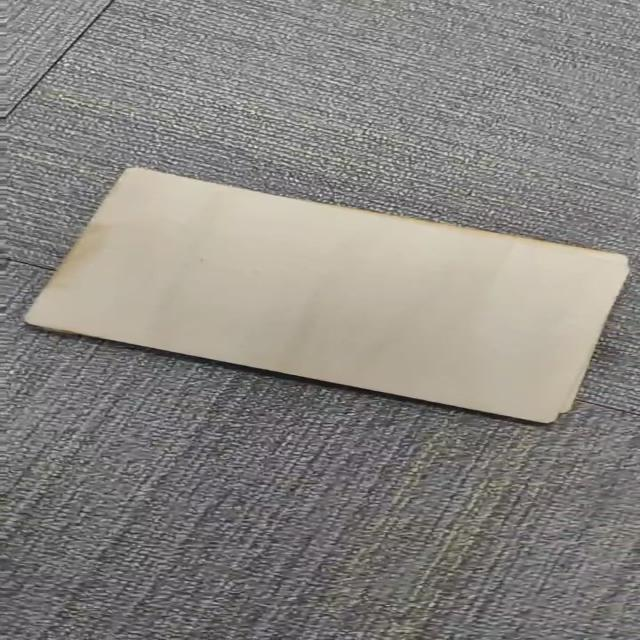carton: (25, 168, 628, 422)
